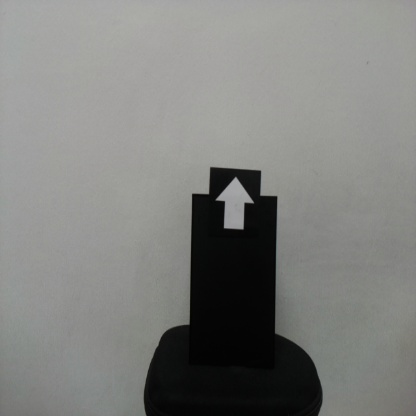id_1: (209, 168, 261, 246)
